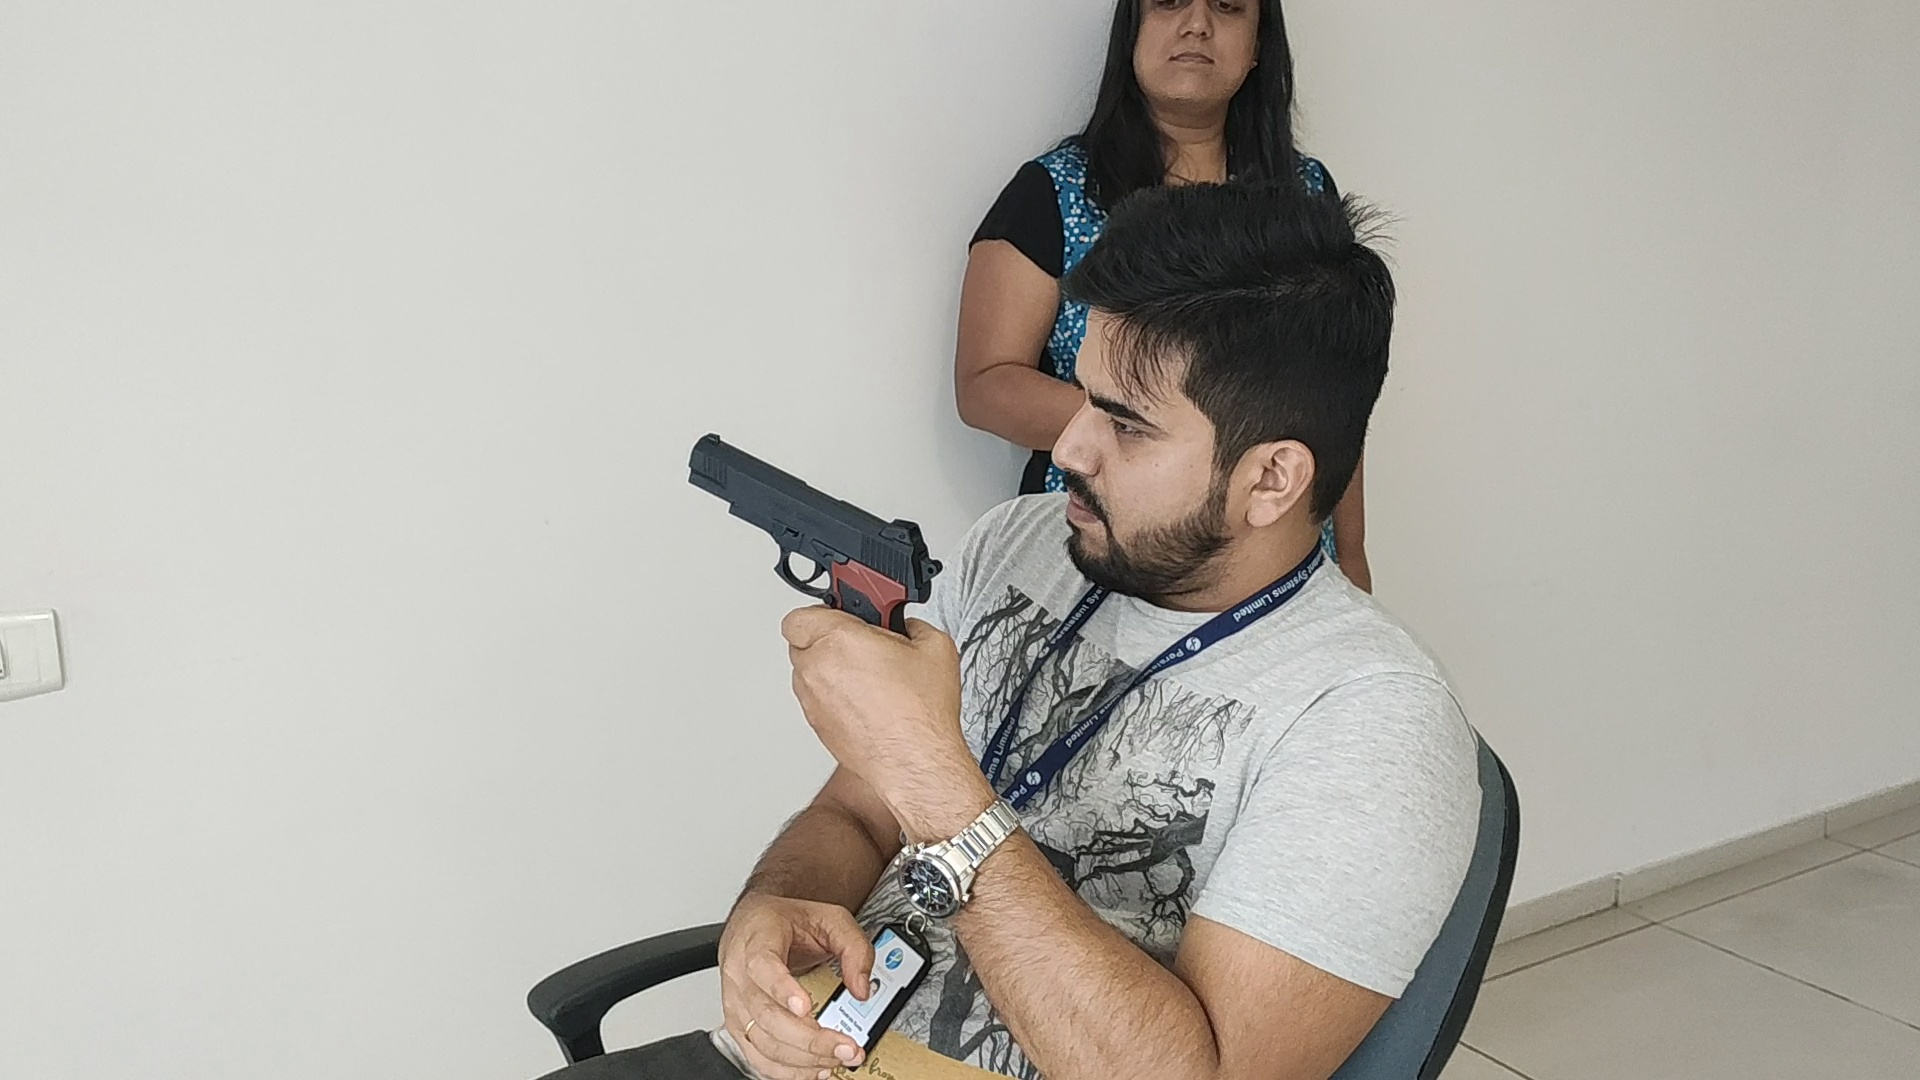gun: (686, 433, 942, 611)
